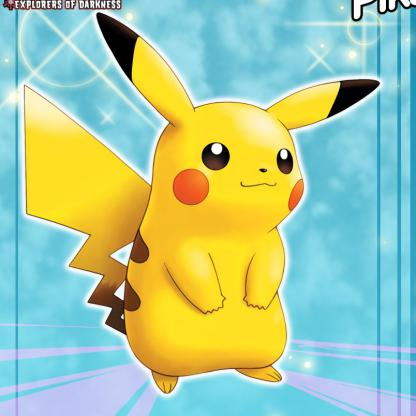Pikachu: (19, 12, 385, 398)
